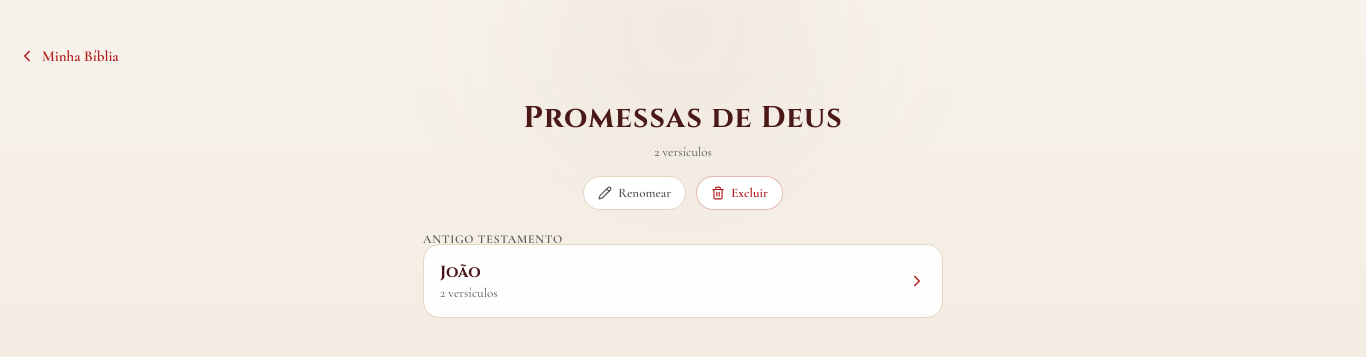
it: CollectionDetail › shows rename/delete actions only at the top level (book list), not while drilled in
Expected: the heading "Promessas de Deus" is shown, 523,98 -> 843,138
Expected: the button "Excluir" is shown, 696,176 -> 783,210
Click the button "João 2 versículos".
click(460, 272)  # box 423,244 -> 943,318
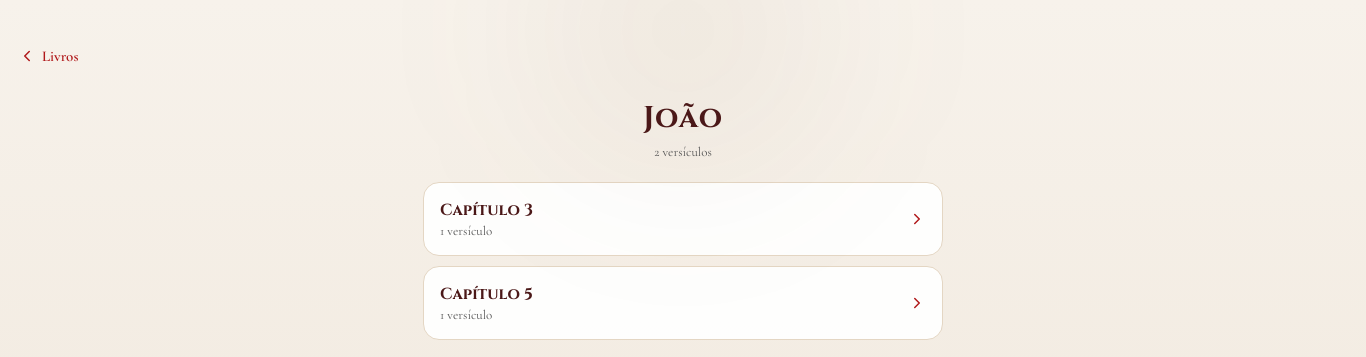
Now the text "Capítulo 3" is shown, box 440,199 -> 533,221
Now the button "Excluir" is gone
